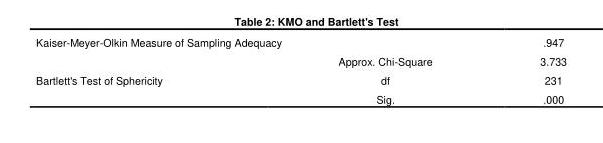table: (35, 34, 566, 105)
table column: (35, 34, 309, 105), (309, 34, 485, 105), (485, 34, 566, 105)
table row: (35, 51, 566, 70), (35, 70, 566, 89), (35, 34, 566, 51), (35, 89, 566, 105)
table spanning cell: (35, 51, 309, 105)
